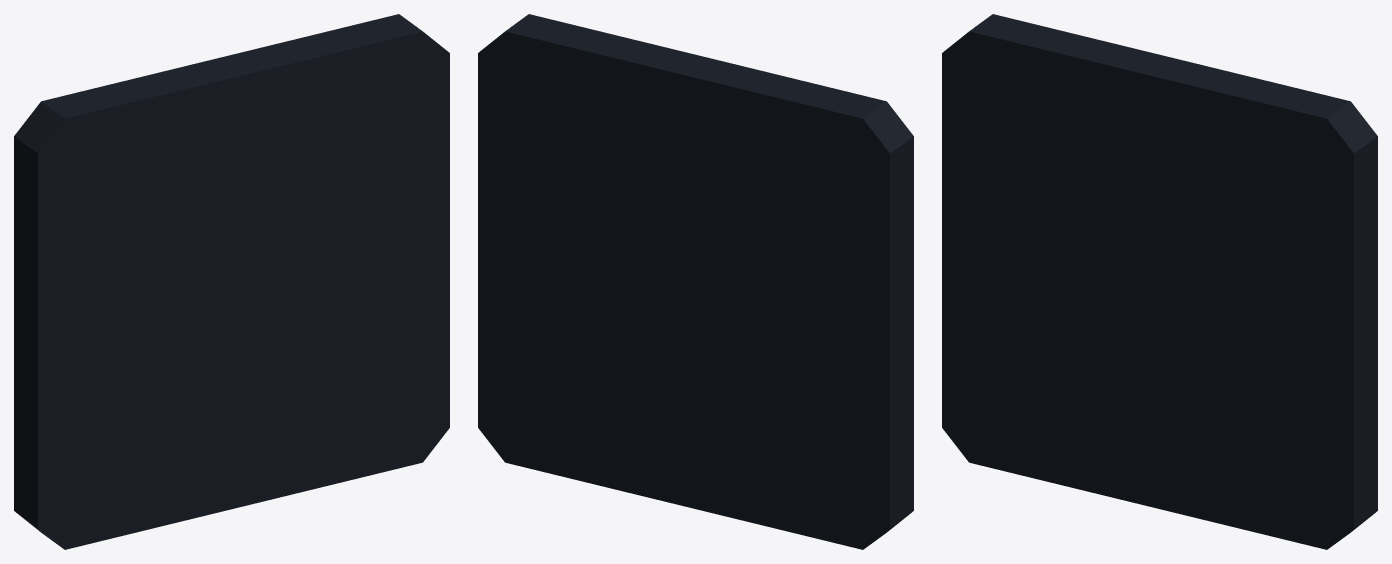
Rendered from item_drop ad.FBX.
3 views of the same model, side by side, from view 1: azimuth 30°, elevation 25°; view 2: azimuth 150°, elevation 25°; view 3: azimuth 330°, elevation 25° (orthographic).
Visible parts, largest first — view 1: item_HandsSuitB001; view 2: item_HandsSuitB001; view 3: item_HandsSuitB001.
Part boxes in pixels (bbox=[...]): item_HandsSuitB001: bbox=[14, 14, 449, 549]; item_HandsSuitB001: bbox=[478, 14, 913, 549]; item_HandsSuitB001: bbox=[942, 14, 1377, 549].
Size of the model in its own units: 111 by 11.09 by 111.
